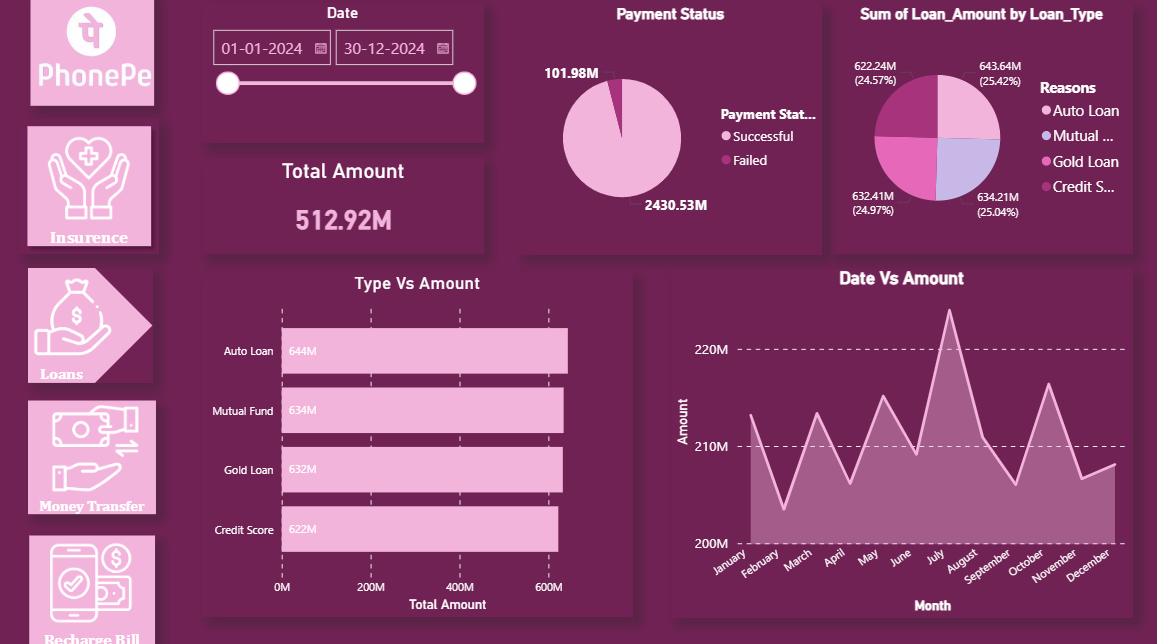

What the dashboard file says about the page in this screenshot:
{"tool":"powerbi","page":{"name":"Loans","canvas":[1280,720],"ordinal":2},"visuals":[{"type":"shape","box":[41.7,0,135.7,123.8],"z":0},{"type":"shape","box":[38.1,447.6,140.5,125],"z":1000},{"type":"shape","box":[28.8,137.2,153.7,149.6],"z":2000},{"type":"shape","box":[39.3,596.2,138.1,123.8],"z":3000},{"type":"shape","box":[38.1,302.4,136.9,126.2],"z":4000},{"type":"image","box":[39.3,0,142.9,123.8],"z":5000},{"type":"image","box":[43.9,149.6,122.1,107],"z":6000},{"type":"image","box":[41.2,307.4,96.1,93.3],"z":7000},{"type":"image","box":[56,447.6,111.9,104.8],"z":8000},{"type":"image","box":[54.8,583.3,104.8,128.6],"z":9000},{"type":"slicer","title":"Date","fields":{"Values":["Loans.Date"]},"box":[229.5,11.4,309.3,153.9],"z":10000},{"type":"pieChart","title":"Payment Status ","fields":{"Y":["Sum(Loans.Loan_Amount)"],"Category":["Loans.Payment_Status"]},"box":[577.4,11.9,332.1,275],"z":11000},{"type":"pieChart","fields":{"Y":["Sum(Loans.Loan_Amount)"],"Category":["Loans.Loan_Type"]},"box":[919.4,12.3,332.1,274.4],"z":12000},{"type":"areaChart","title":"Date Vs Amount","fields":{"Category":["Loans.Date.Variation.Date Hierarchy.Month"],"Y":["Sum(Loans.Loan_Amount)"]},"box":[743.7,301.9,507.7,384.2],"z":13000},{"type":"card","title":"Total Amount ","fields":{"Values":["Sum(Insurance.Premium)"]},"box":[230.9,181,307.9,105.5],"z":14000},{"type":"barChart","title":"Type Vs Amount","fields":{"Y":["Sum(Loans.Loan_Amount)"],"Category":["Loans.Loan_Type"]},"box":[229.2,307.4,473.4,377.4],"z":15000}]}

Visuals, with their boxes in screenshot pixels (x1, y1, x2, y2), scaled from the page's 1280x720 canvas onto the 1157x644 screenshot:
shape: [38,0,160,111]
shape: [34,400,161,512]
shape: [26,123,165,257]
shape: [36,533,160,643]
shape: [34,270,158,383]
image: [36,0,165,111]
image: [40,134,150,230]
image: [37,275,124,358]
image: [51,400,152,494]
image: [50,522,144,637]
"Date" slicer: [207,10,487,148]
"Payment Status " pieChart: [522,11,822,257]
pieChart - Sum(Loans.Loan_Amount) x Loans.Loan_Type: [831,11,1131,256]
"Date Vs Amount" areaChart: [672,270,1131,614]
"Total Amount " card: [209,162,487,256]
"Type Vs Amount" barChart: [207,275,635,613]
